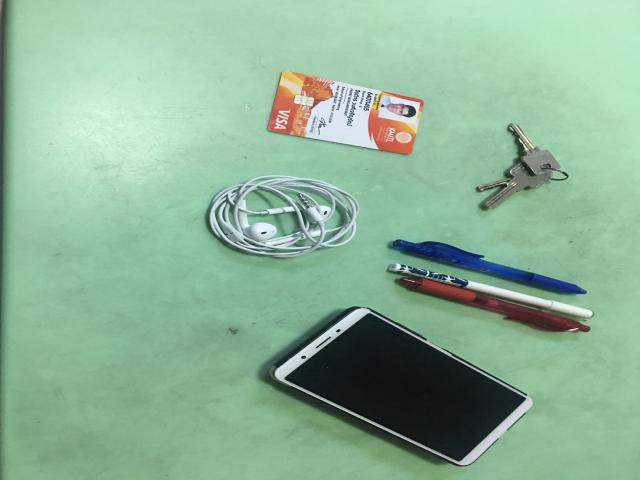Keys: (477, 124, 560, 209)
Mobile phone: (272, 307, 532, 465)
Pen: (388, 263, 593, 319), (392, 240, 587, 294), (400, 278, 590, 332)
wire: (208, 175, 358, 258)
